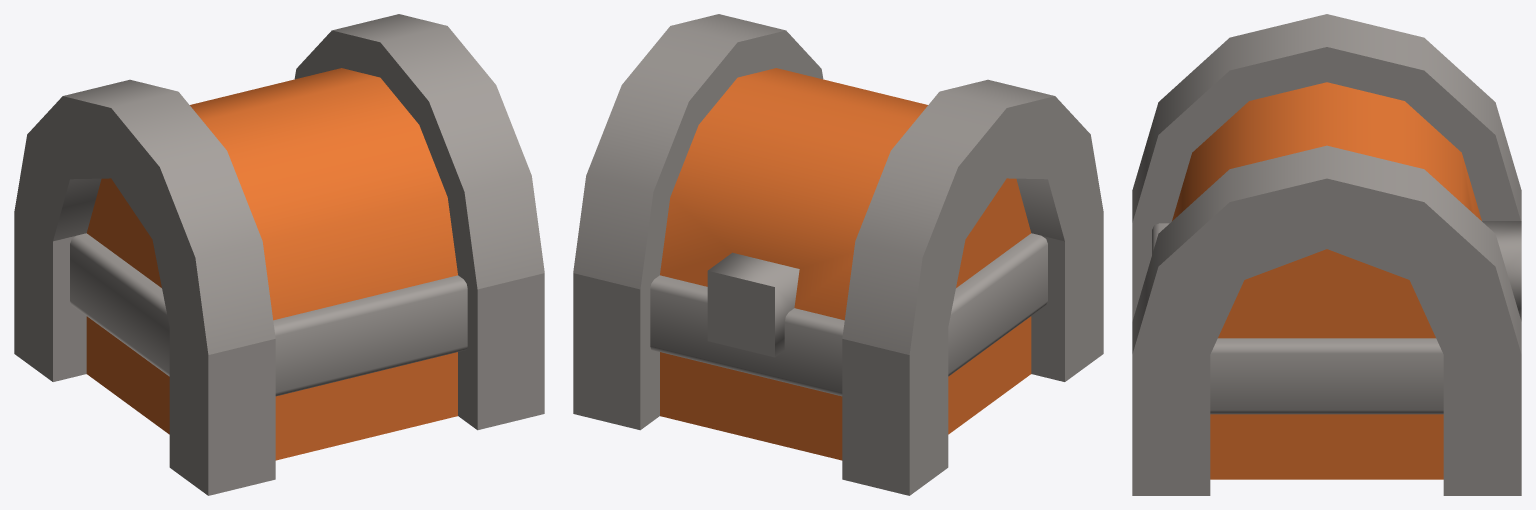
The model's file is Chest_Model.fbx.
The picture shows the model from 3 angles, left to right: view 1: azimuth 30°, elevation 25°; view 2: azimuth 150°, elevation 25°; view 3: azimuth 270°, elevation 25°; orthographic projection.
Visible parts, largest first — view 1: Object_:Chest_Top, Object_:Chest_Base; view 2: Object_:Chest_Top, Object_:Chest_Base; view 3: Object_:Chest_Top, Object_:Chest_Base.
Boxes of the visible parts, box(x1,y1,x2,y2) form: Object_:Chest_Top: box(14, 14, 544, 354); Object_:Chest_Base: box(14, 213, 544, 495); Object_:Chest_Top: box(573, 14, 1103, 357); Object_:Chest_Base: box(573, 213, 1103, 495); Object_:Chest_Top: box(1132, 14, 1521, 354); Object_:Chest_Base: box(1132, 223, 1521, 495).
Bounding box in the file's own units: 99.19 × 89.27 × 99.19.
